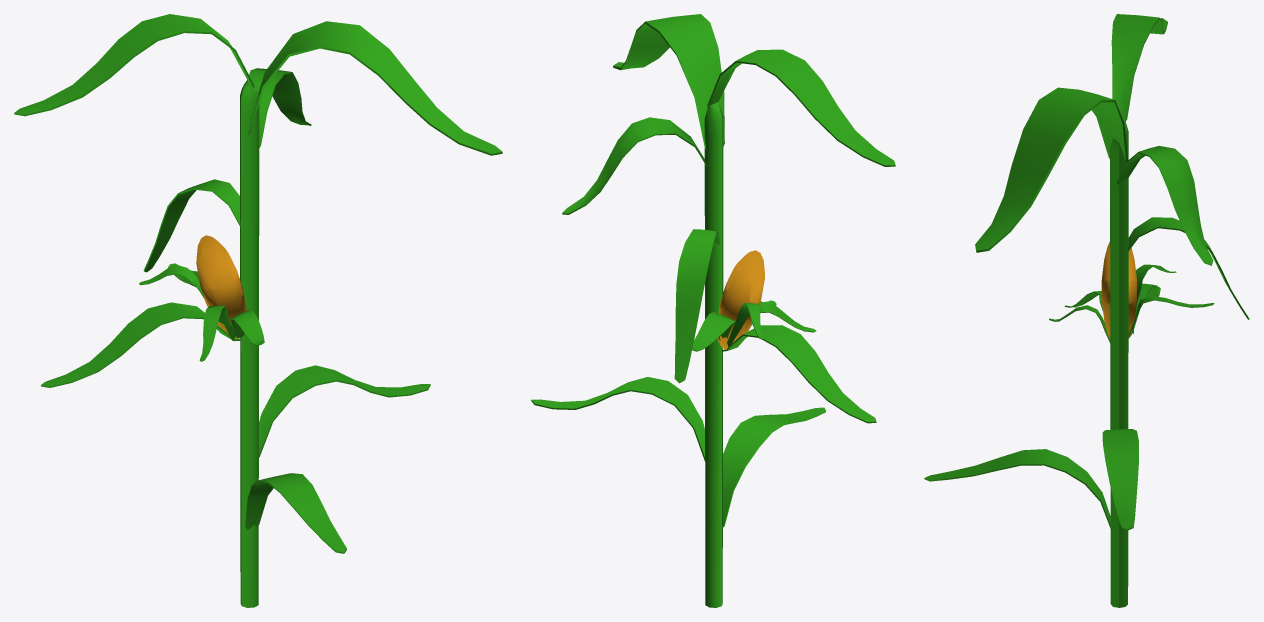
File: MSH_Mais_V4.fbx
3 views of the same model, side by side, from view 1: azimuth 30°, elevation 25°; view 2: azimuth 150°, elevation 25°; view 3: azimuth 270°, elevation 25° (orthographic). The views are drawn at different scales.
Visible parts, largest first — view 1: Pied; view 2: Pied; view 3: Pied.
Boxes of the visible parts, left/top/right/bottom form: Pied: left=14, top=14, right=502, bottom=607; Pied: left=531, top=14, right=895, bottom=607; Pied: left=924, top=14, right=1249, bottom=607.
Size of the model in its own units: 304 by 432 by 231.
